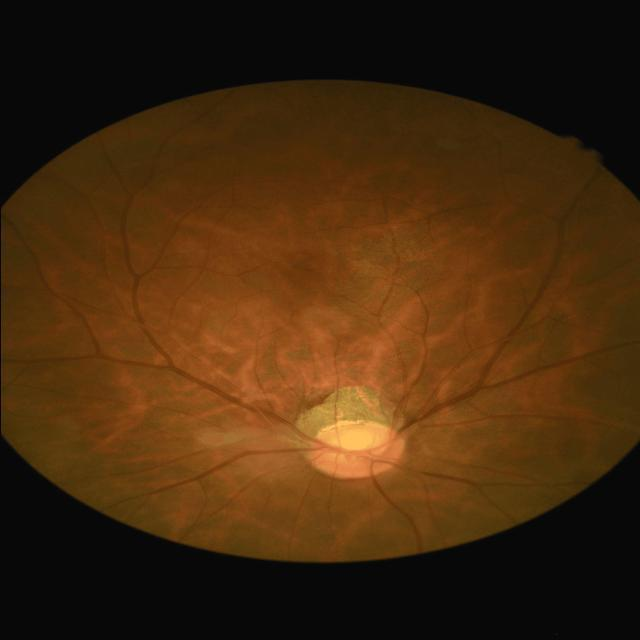cup: (318, 423, 390, 463)
disk: (306, 420, 404, 480)
